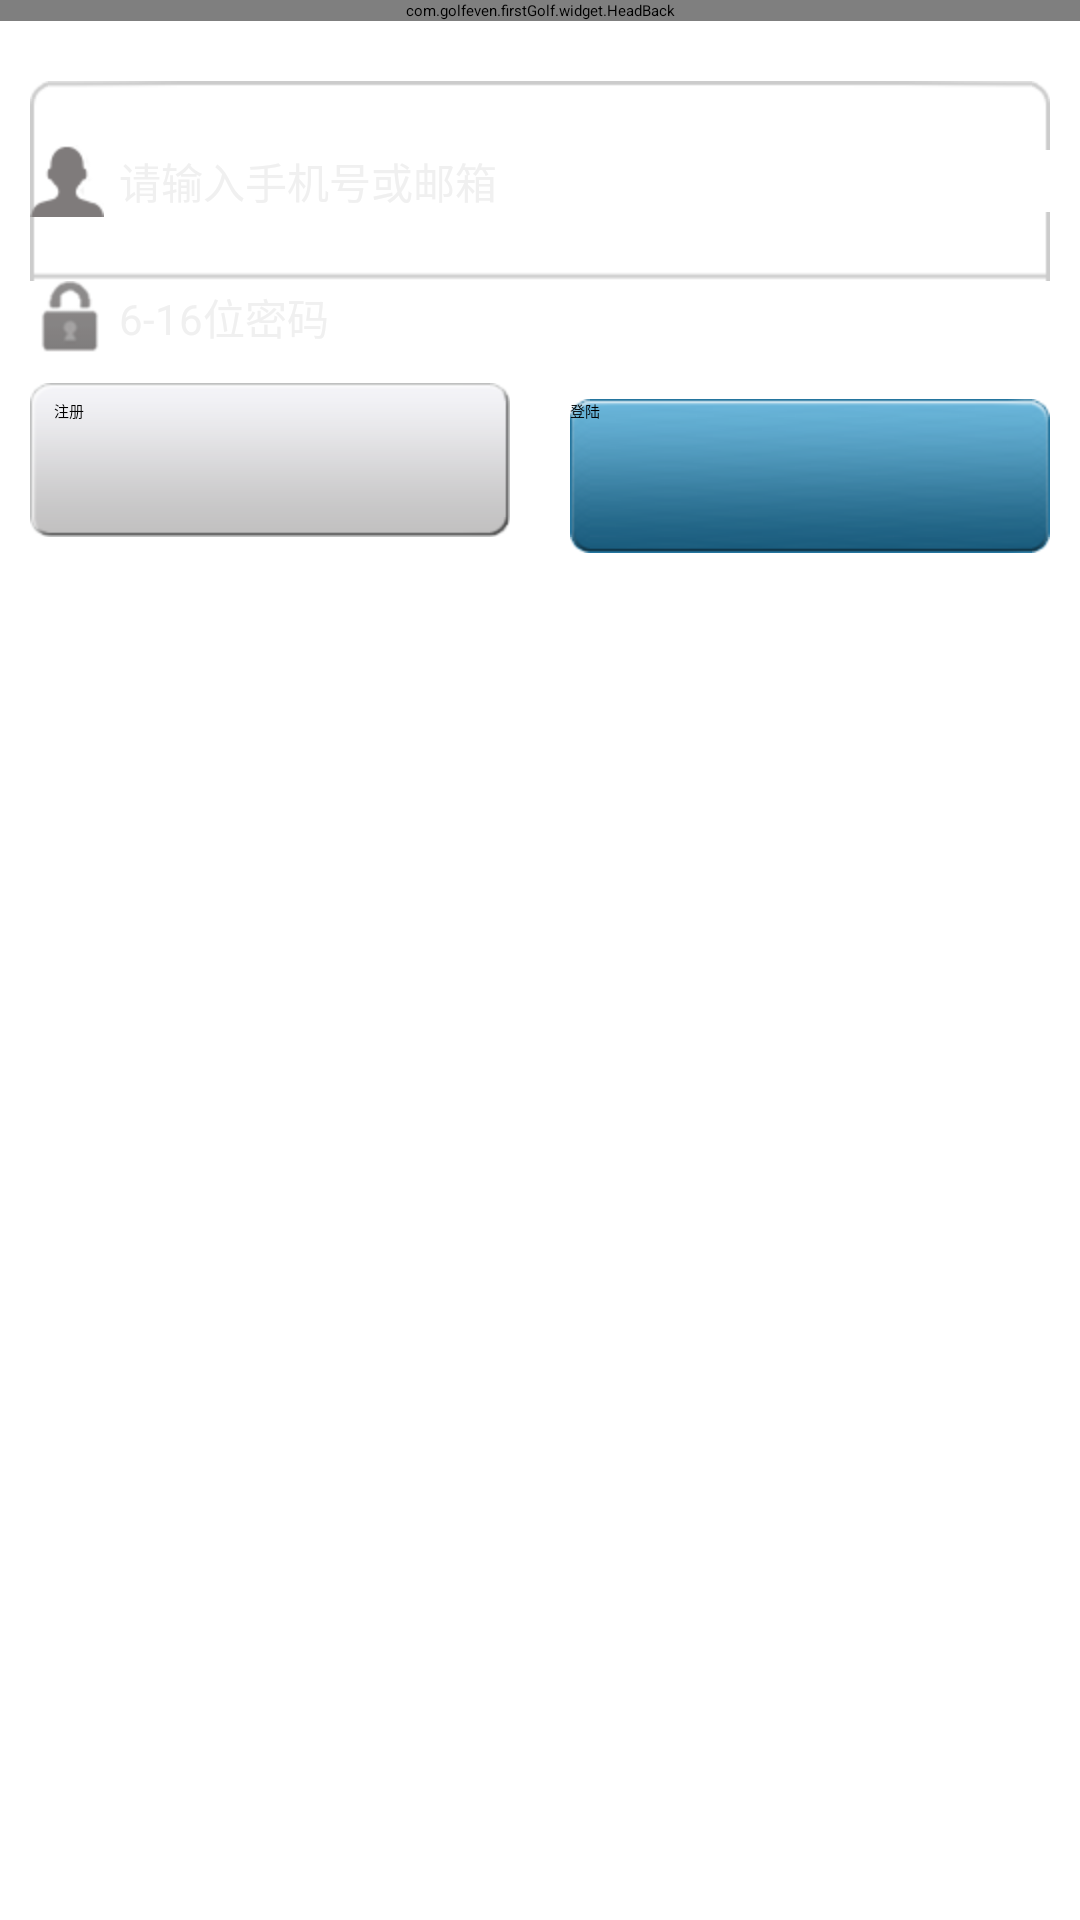

Where icons sit on this 1080×1920 app screen, as (x1,y1,x2,y2):
secret: (42,281,98,351)
